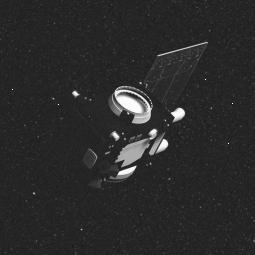proba_3_csc: (50, 34, 213, 198)
